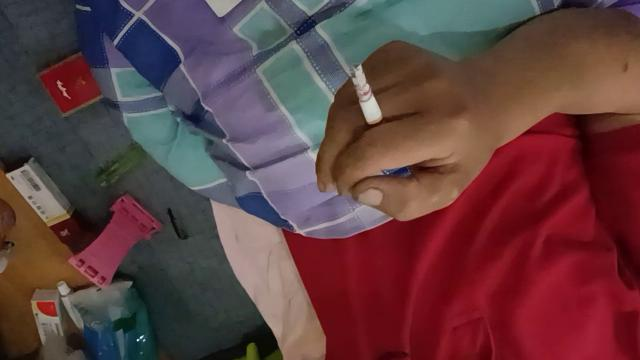Cigarette: (352, 63, 390, 140)
